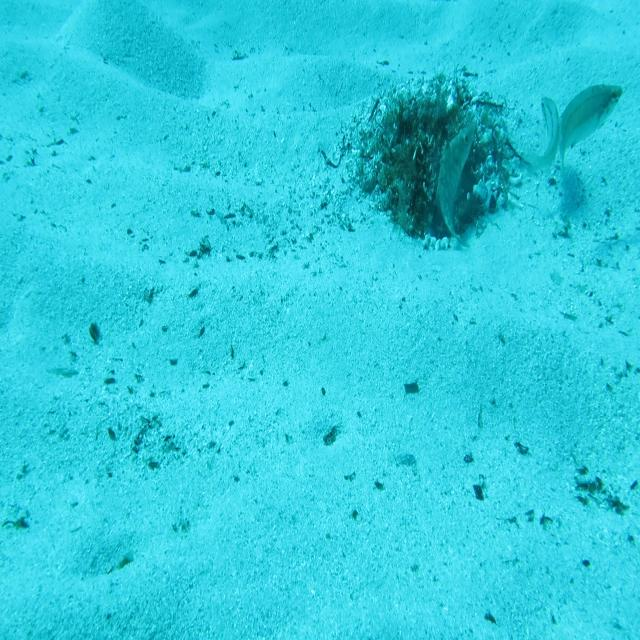LF: (434, 121, 478, 252)
core_nest: (405, 116, 448, 152)
female: (558, 81, 626, 181), (518, 97, 558, 172)
nest: (346, 66, 527, 257)
